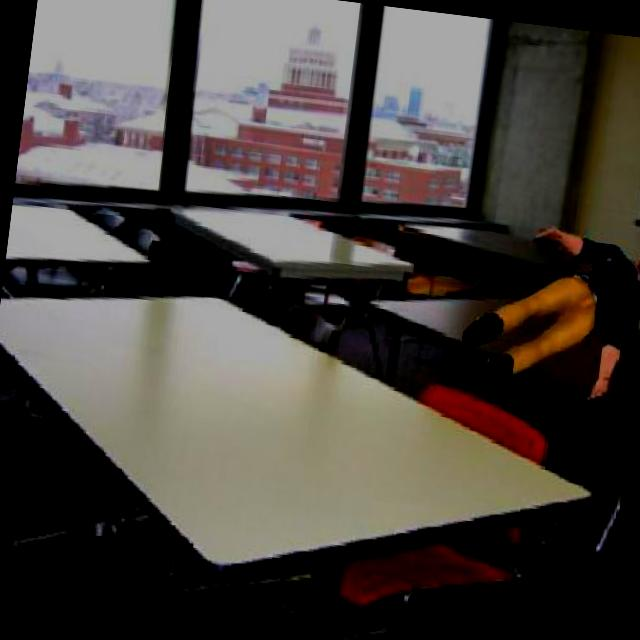Person: (453, 212, 640, 411)
